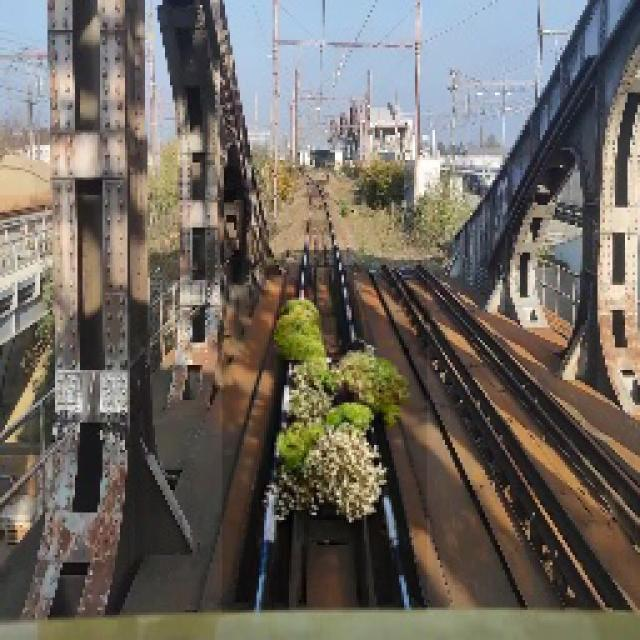rail: (224, 168, 428, 614)
